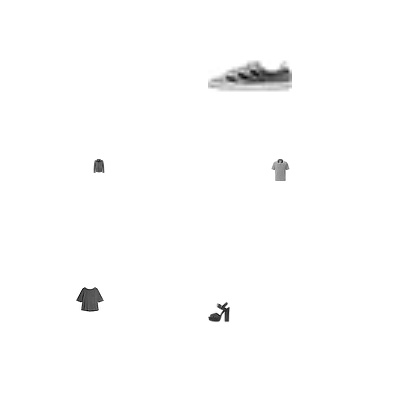Coat: (92, 159, 106, 173)
Sandal: (208, 301, 230, 323)
Shirt: (76, 285, 104, 313)
Sneaker: (208, 34, 292, 118)
T-shirt/top: (269, 159, 291, 181)
